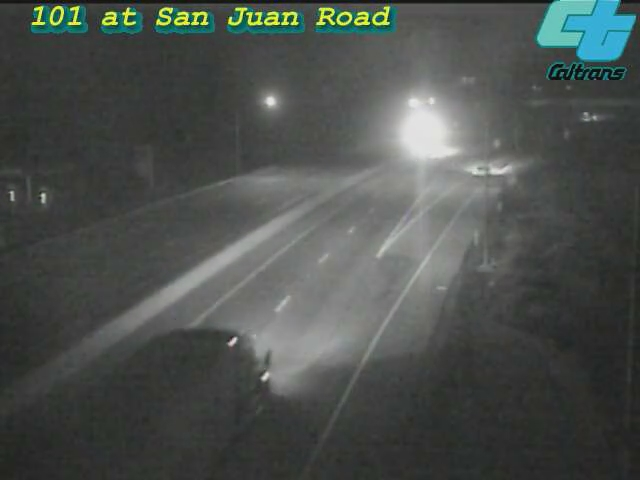vehicle: (125, 340, 235, 450), (444, 128, 524, 208), (393, 107, 443, 157), (566, 91, 616, 141), (423, 123, 473, 173)
